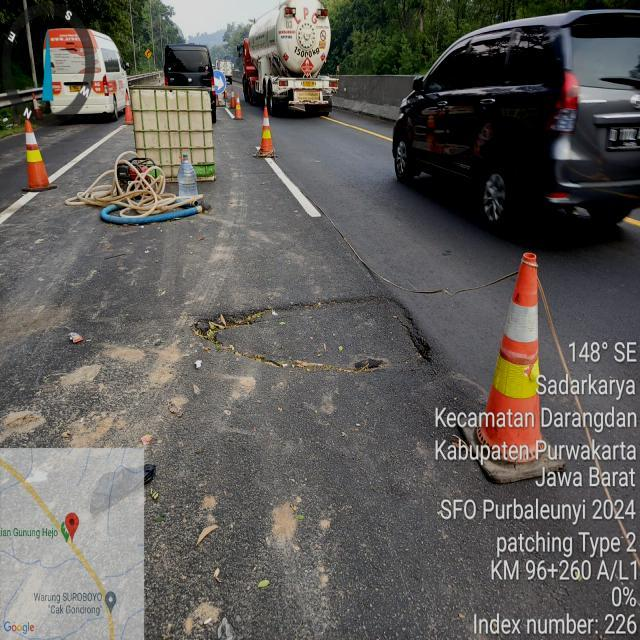Buraco: (186, 294, 380, 349), (382, 296, 438, 366), (342, 351, 397, 377)
